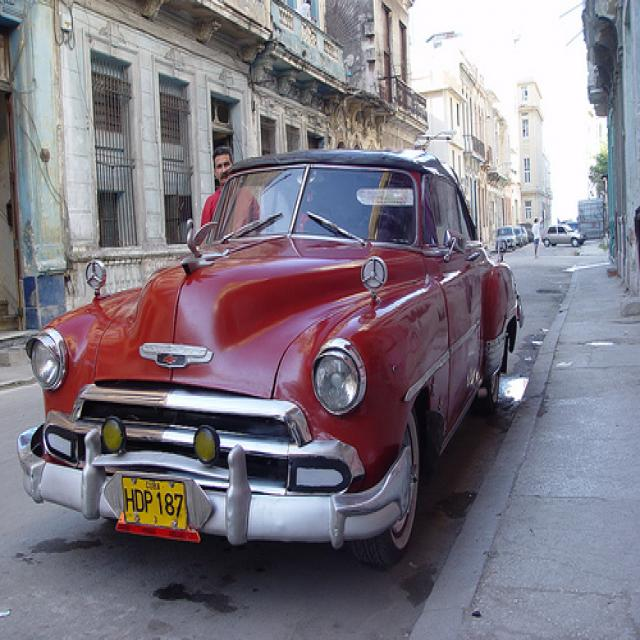Car: (17, 138, 524, 557), (539, 222, 586, 254)
